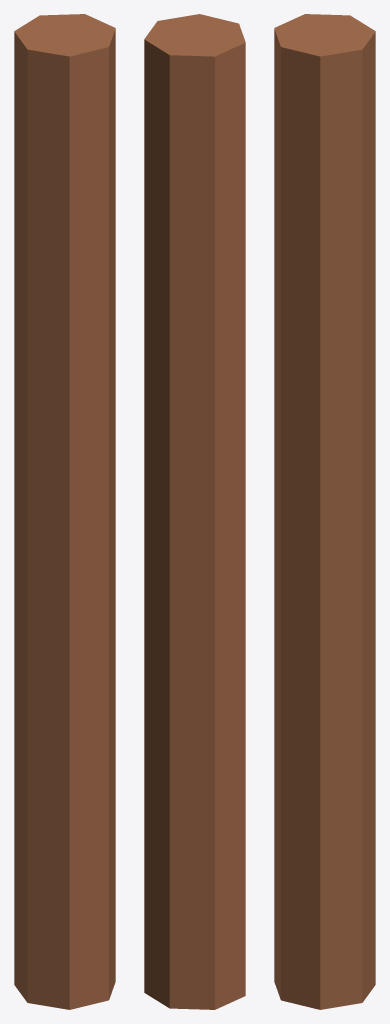
The model's file is Mixer.glb.
3 views of the same model, side by side, from view 1: azimuth 30°, elevation 25°; view 2: azimuth 150°, elevation 25°; view 3: azimuth 330°, elevation 25° (orthographic).
Visible parts, largest first — view 1: Cylinder; view 2: Cylinder; view 3: Cylinder.
Boxes of the visible parts, left/top/right/bottom form: Cylinder: left=14, top=14, right=115, bottom=1009; Cylinder: left=144, top=14, right=245, bottom=1009; Cylinder: left=274, top=14, right=375, bottom=1009.
Bounding box in the file's own units: 0.1517 × 1.57 × 0.1478.
